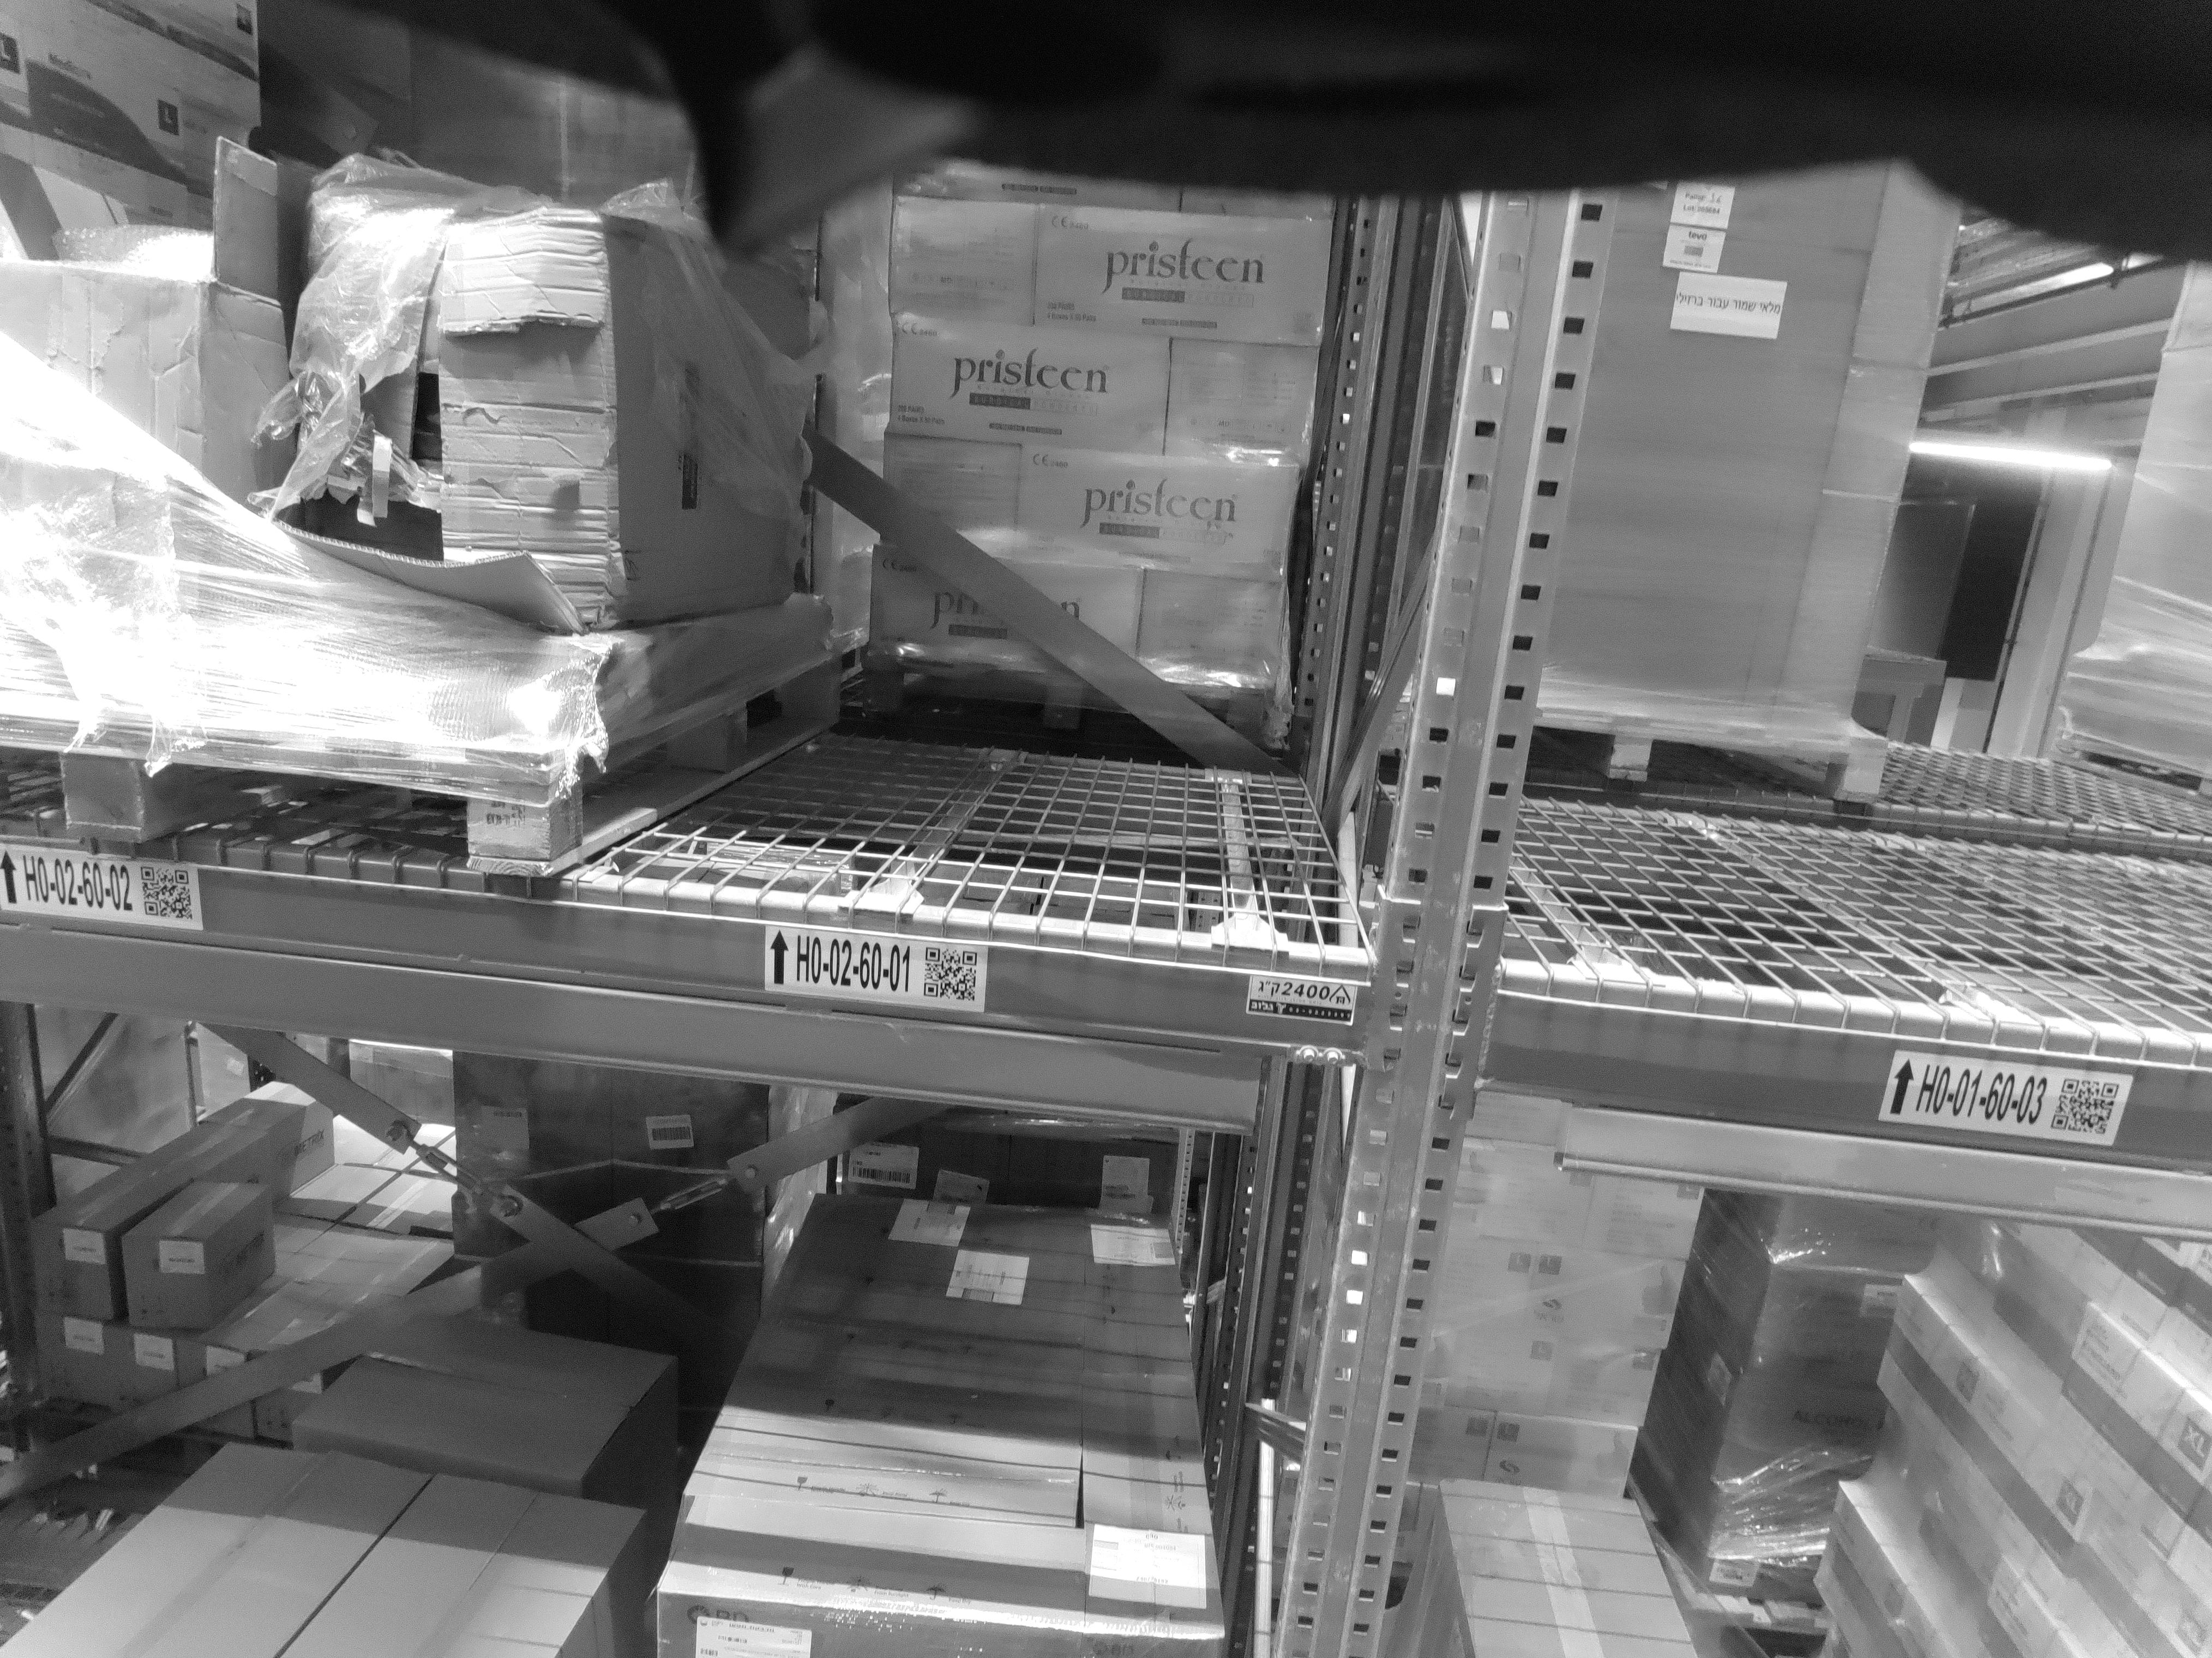empty-shelf: (1658, 218, 2130, 1007), (881, 204, 1325, 925)
